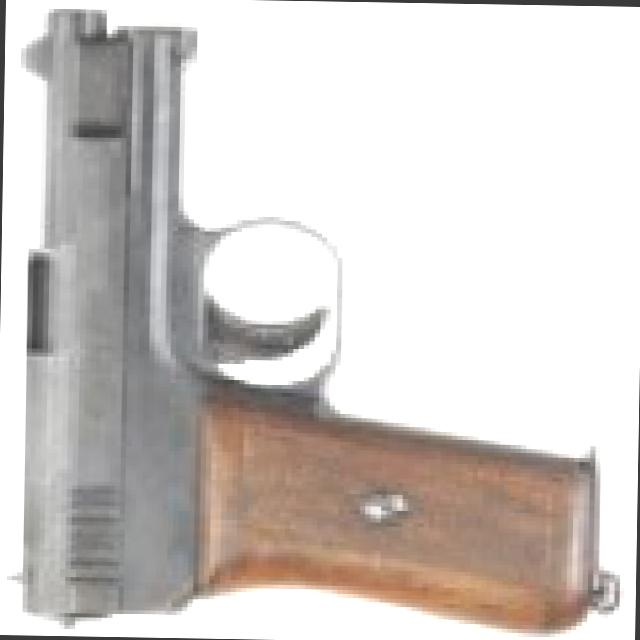handgun: (1, 18, 586, 632)
